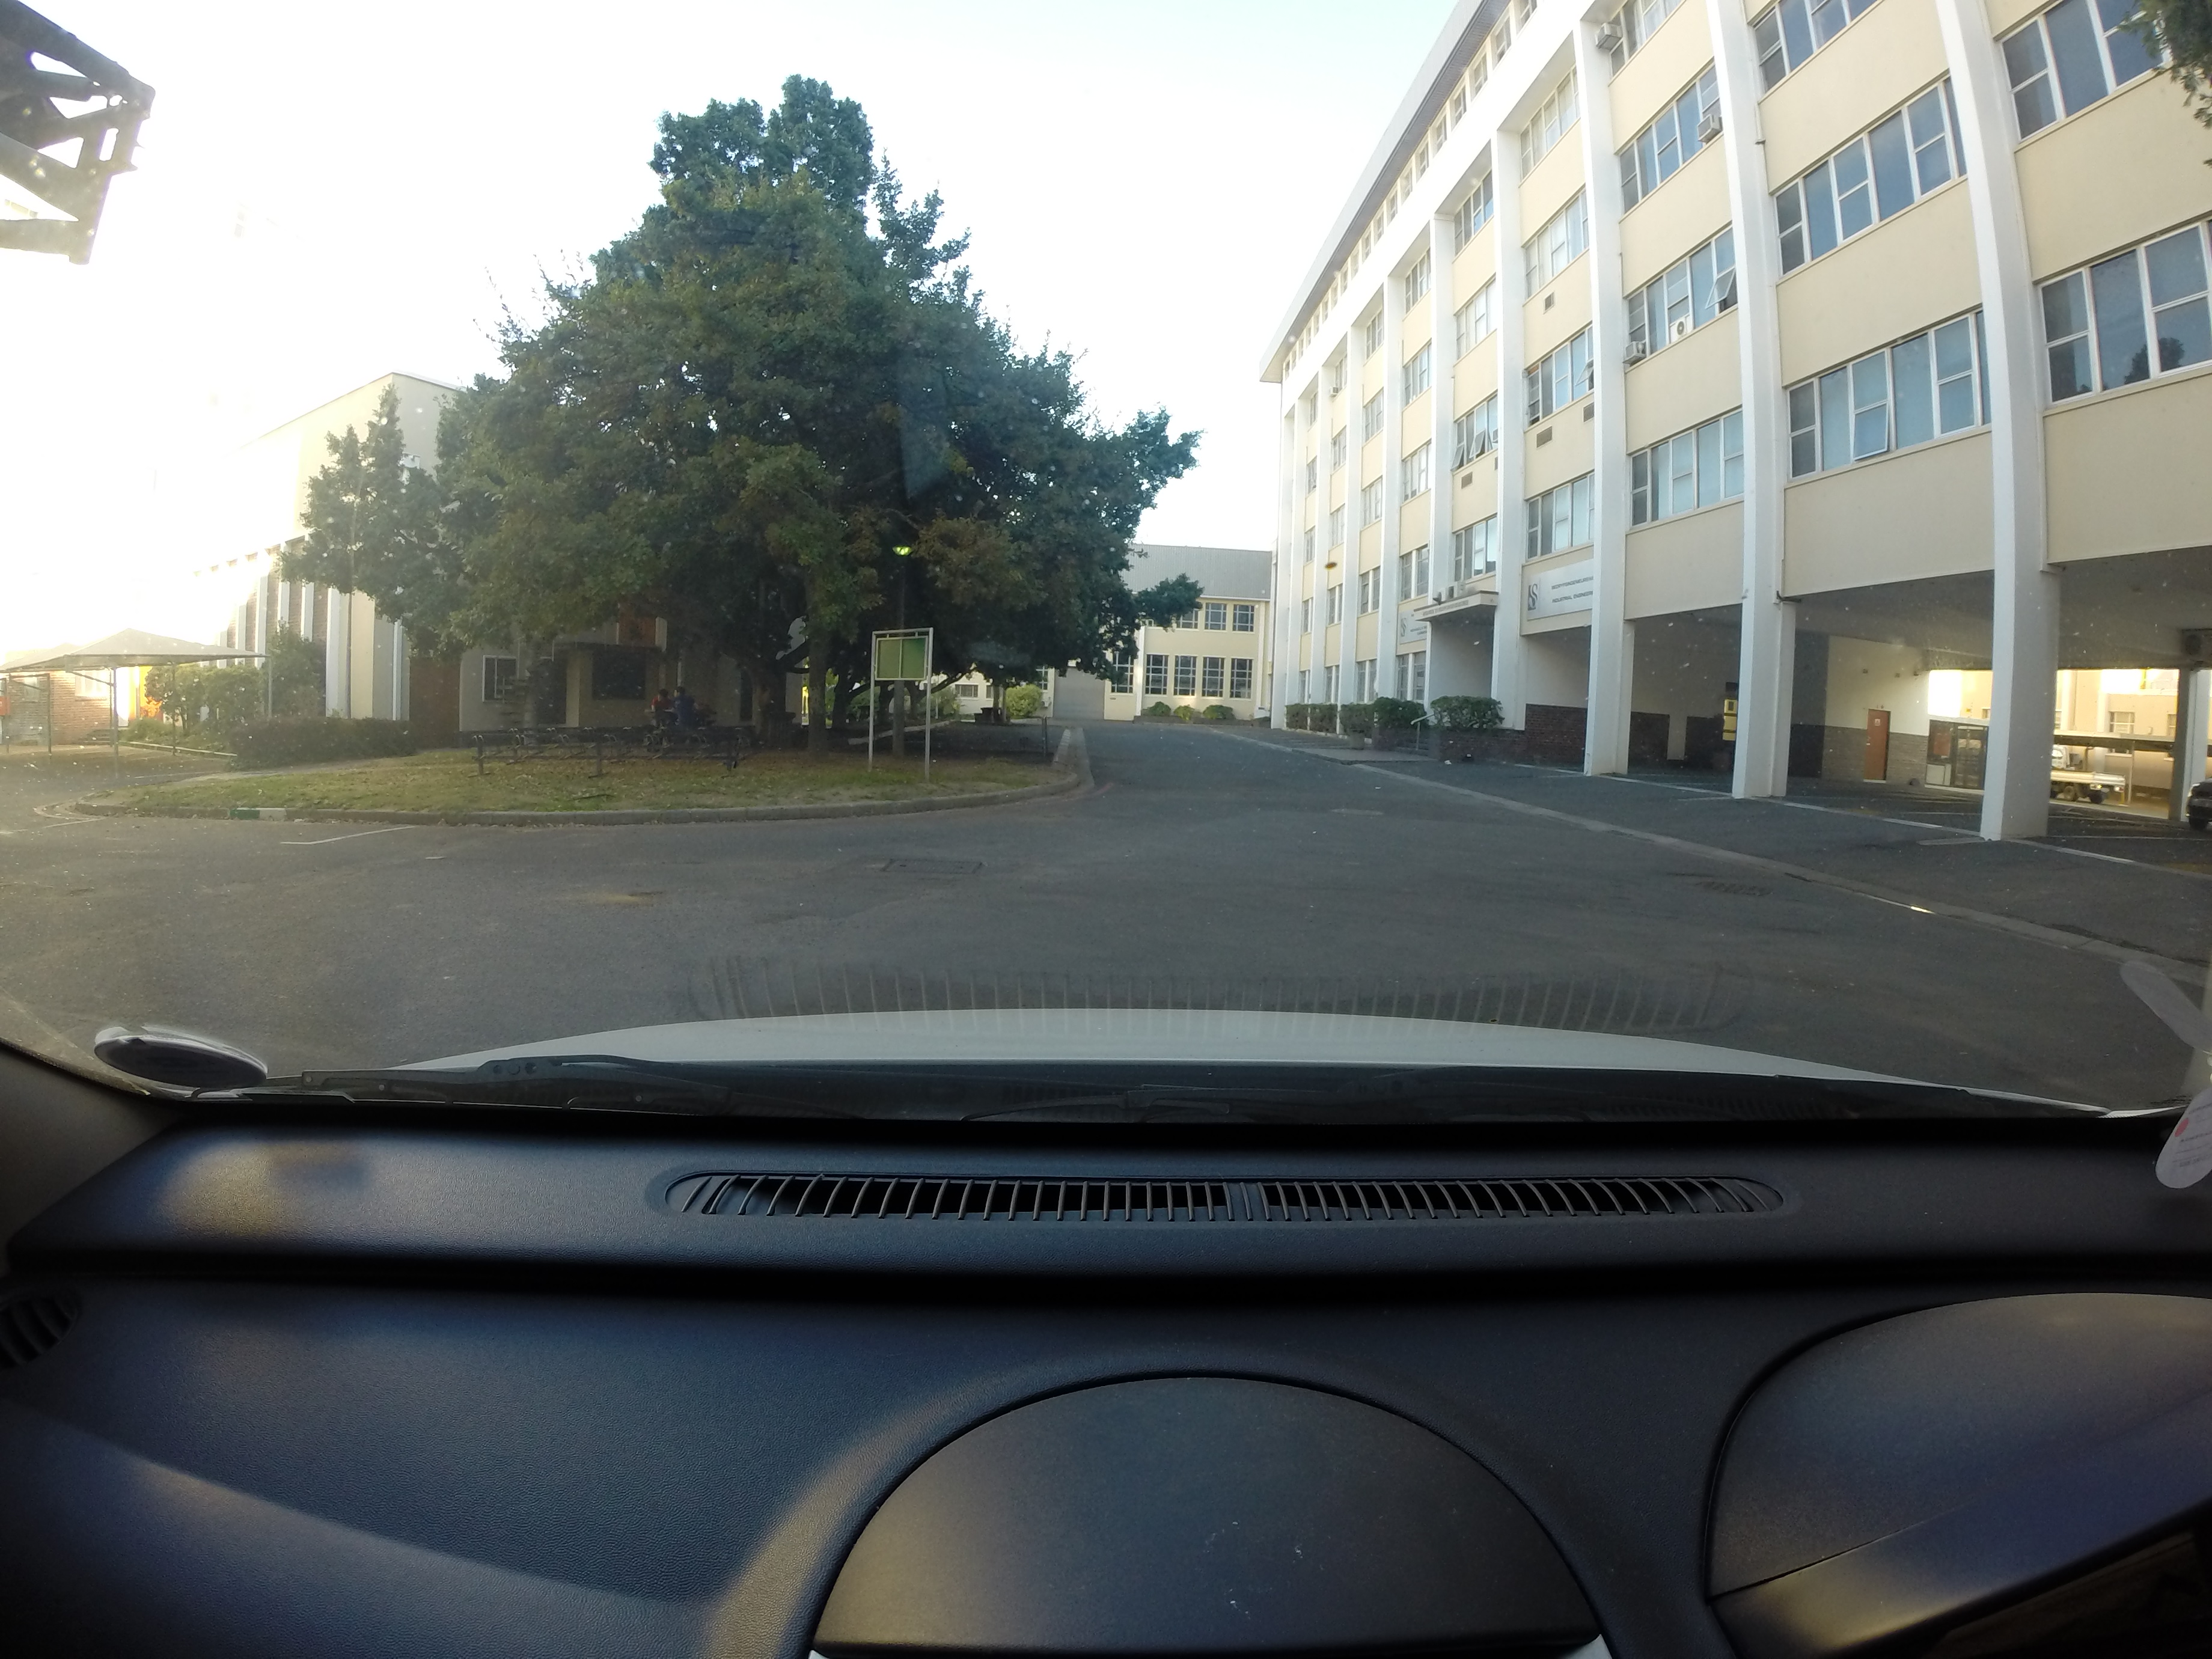pothole: (610, 887, 688, 899)
